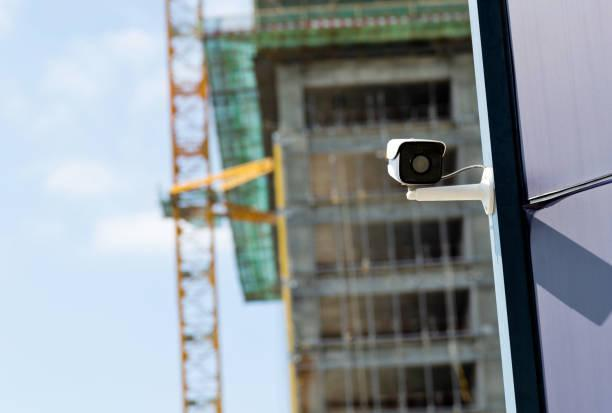camera: (348, 122, 472, 203)
